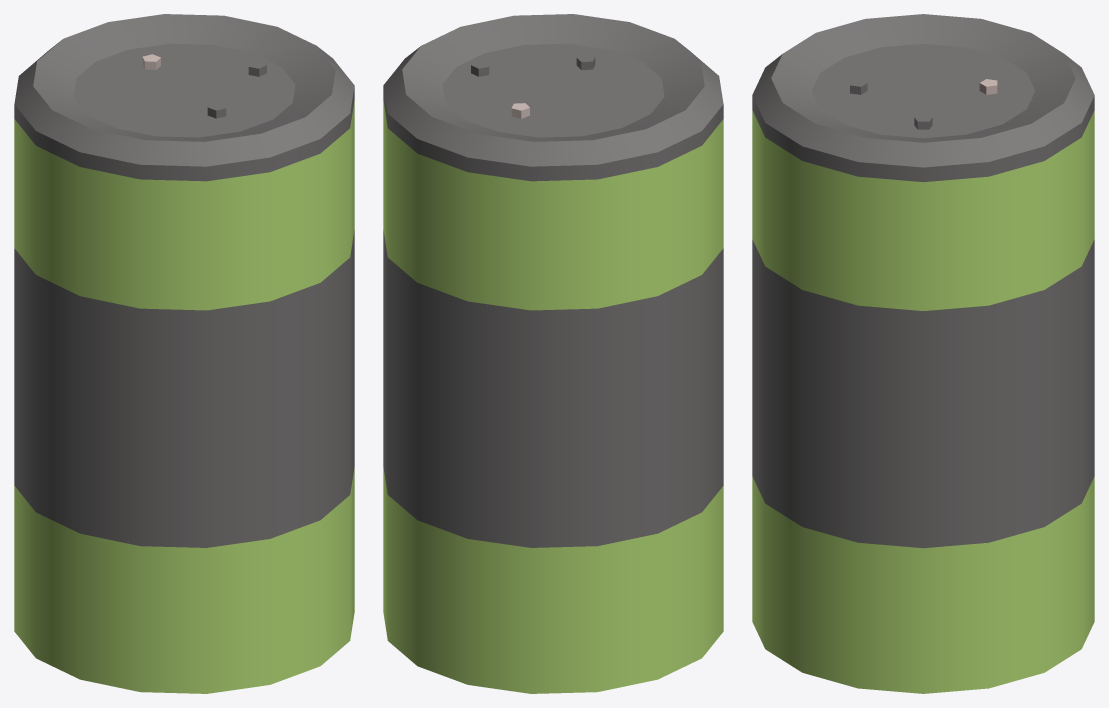
File: prop_barrel.fbx
The picture shows the model from 3 angles, left to right: view 1: azimuth 30°, elevation 25°; view 2: azimuth 150°, elevation 25°; view 3: azimuth 270°, elevation 25°; orthographic projection.
Visible parts, largest first — view 1: barrel; view 2: barrel; view 3: barrel.
Boxes of the visible parts, bbox=[...] form: barrel: bbox=[14, 14, 354, 693]; barrel: bbox=[383, 14, 723, 693]; barrel: bbox=[752, 14, 1094, 693].
Bounding box in the file's own units: 3.13 × 5.47 × 3.13.
